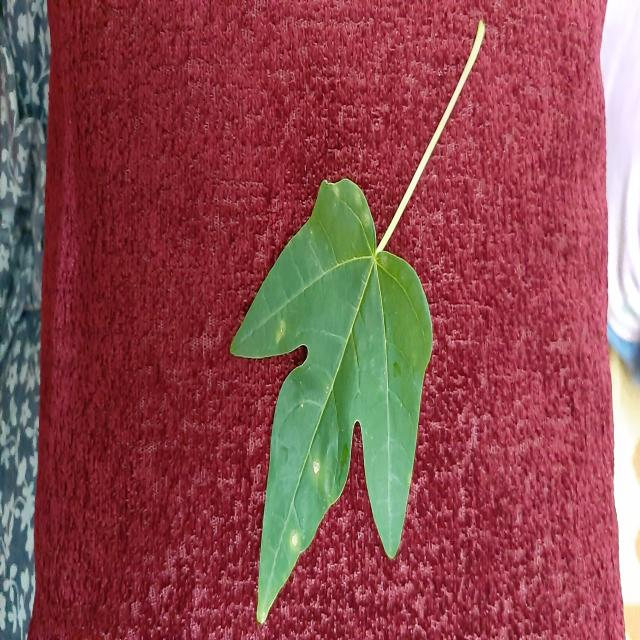papaya: (230, 179, 432, 623)
